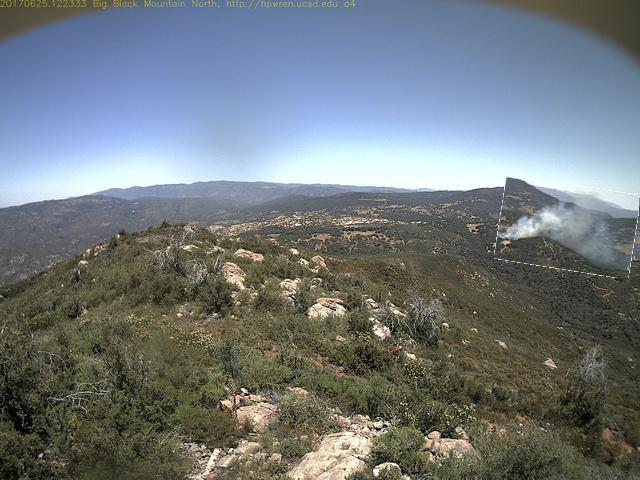smoke: (498, 180, 640, 275)
